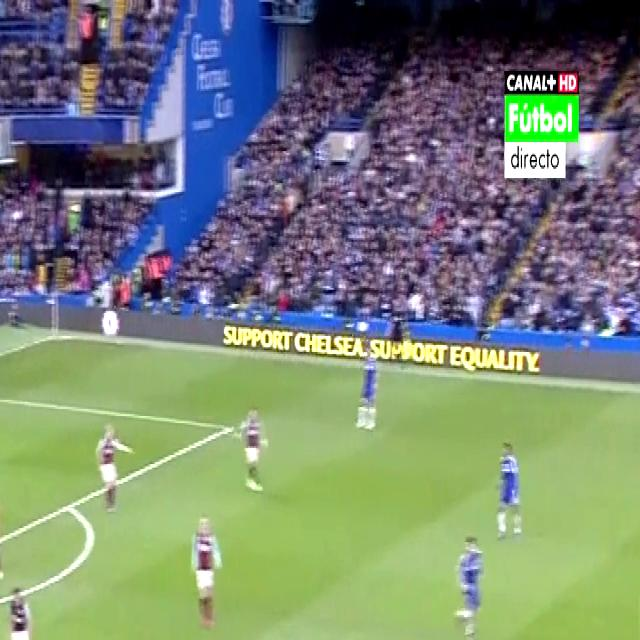referee: (384, 286, 416, 382)
soccer-player: (182, 501, 227, 636), (447, 521, 489, 640), (491, 426, 530, 547), (91, 409, 129, 516), (236, 393, 271, 502), (354, 342, 386, 438), (2, 572, 41, 640), (0, 457, 8, 590)
